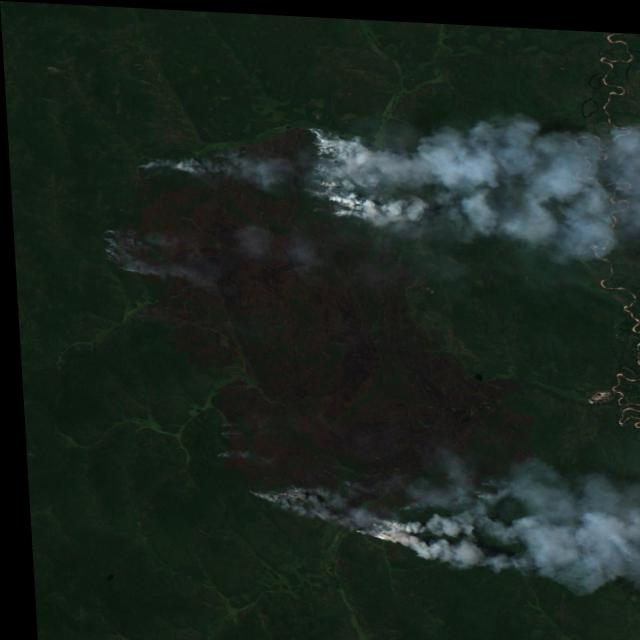fire: (235, 463, 505, 548), (300, 119, 360, 212), (133, 147, 205, 183), (94, 221, 132, 273)
